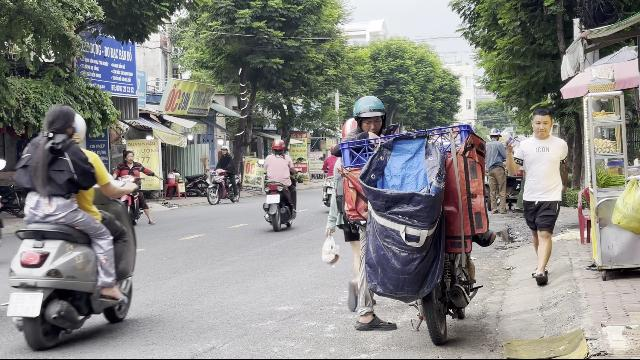helmet: (71, 108, 87, 144), (270, 138, 286, 154)
licenseplate: (8, 293, 44, 317), (266, 195, 280, 204)
motorcyclist: (2, 102, 142, 350), (111, 146, 159, 230), (260, 138, 298, 229)
nohelmet: (43, 105, 77, 140), (123, 149, 135, 163)
